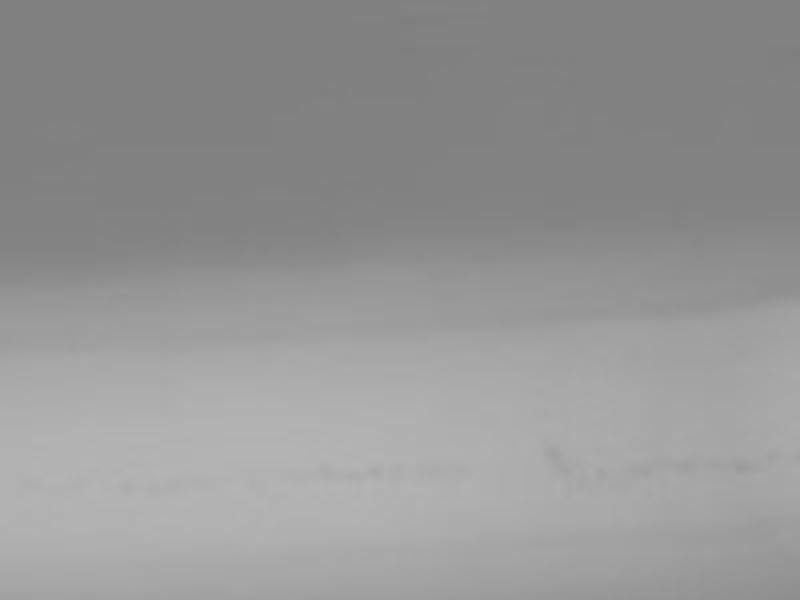defect: (294, 466, 353, 486), (543, 444, 570, 475), (728, 457, 756, 474), (623, 459, 649, 477), (573, 475, 594, 493), (591, 464, 609, 484), (765, 447, 781, 466), (674, 458, 691, 475), (370, 463, 383, 480)
